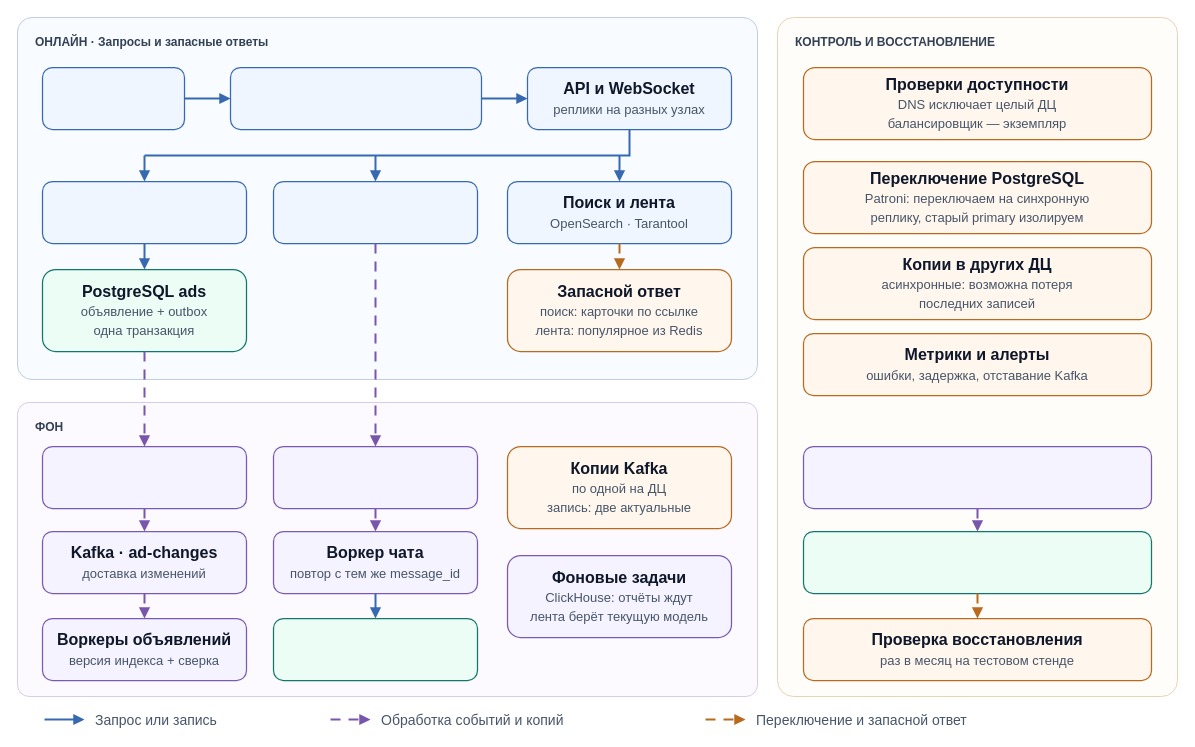
The diagram is 1195 pixels wide and 747 high, and some of its shapes have lost their labels. The shapes that lost their labels are listed below. From the top down, each one's centre as x and y in pixels, then its label:
At point 113,98: "Клиенты веб / мобильные".
At point 355,98: "Вход в ДЦ VRRP / IPVS · NGINX".
At point 144,212: "Объявления сохранение карточки".
At point 375,212: "Чат Redis: ключ повтора".
At point 144,477: "Debezium читает журнал WAL".
At point 375,477: "Kafka · message-delivery подтверждение: «принято»".
At point 977,477: "Задачи бэкапа PostgreSQL + WAL, Cassandra, ClickHouse".
At point 977,562: "Ceph в другом ДЦ храним резервные копии отдельно".
At point 375,649: "Cassandra «сохранено» → WS / push".
